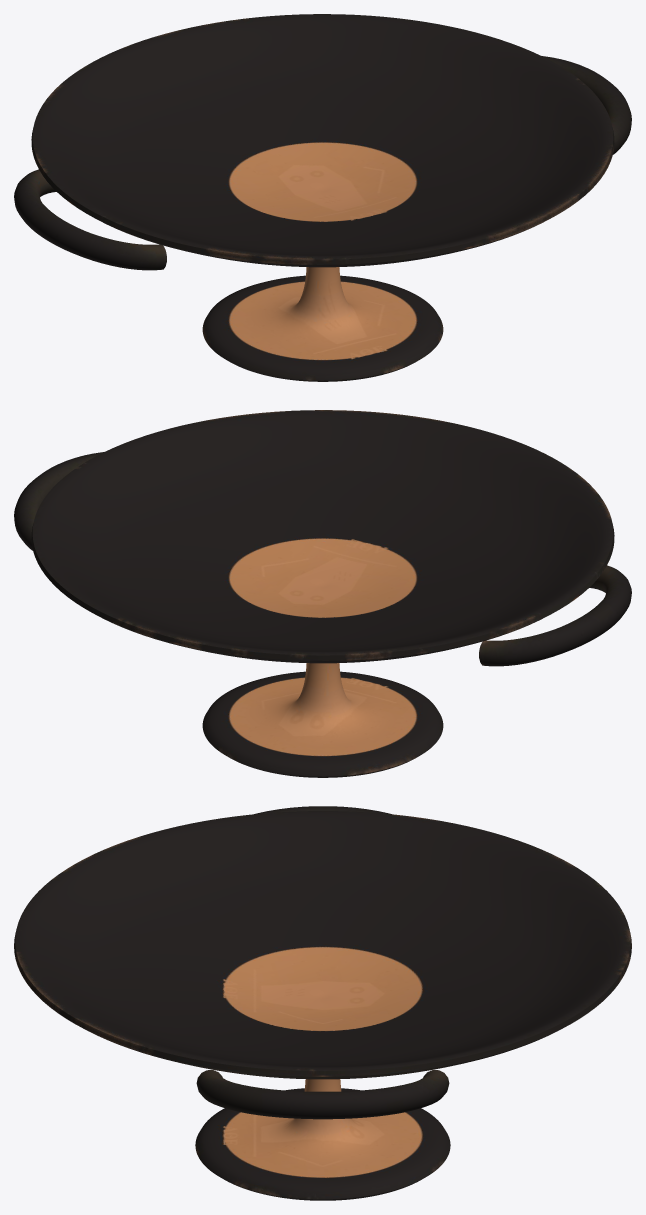
Rendered from kylix.glb.
3 renders of one model, top to bottom at view 1: azimuth 30°, elevation 25°; view 2: azimuth 150°, elevation 25°; view 3: azimuth 270°, elevation 25°, orthographic. The views are drawn at different scales.
Visible parts, largest first — view 1: kylix; view 2: kylix; view 3: kylix.
Boxes of the visible parts, left/top/right/bottom form: kylix: left=14, top=14, right=631, bottom=381; kylix: left=14, top=410, right=631, bottom=777; kylix: left=14, top=806, right=631, bottom=1200.
Bounding box in the file's own units: 0.2808 × 0.0932 × 0.2468.
1 material, 1 textured.
